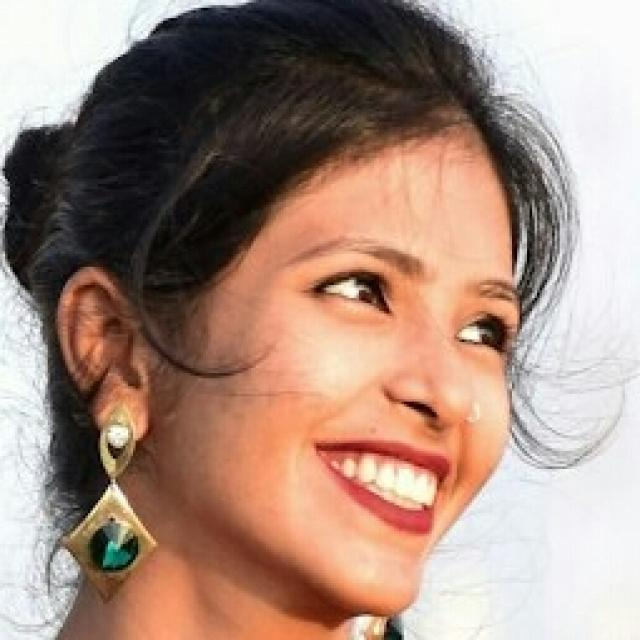front: (236, 197, 517, 568)
